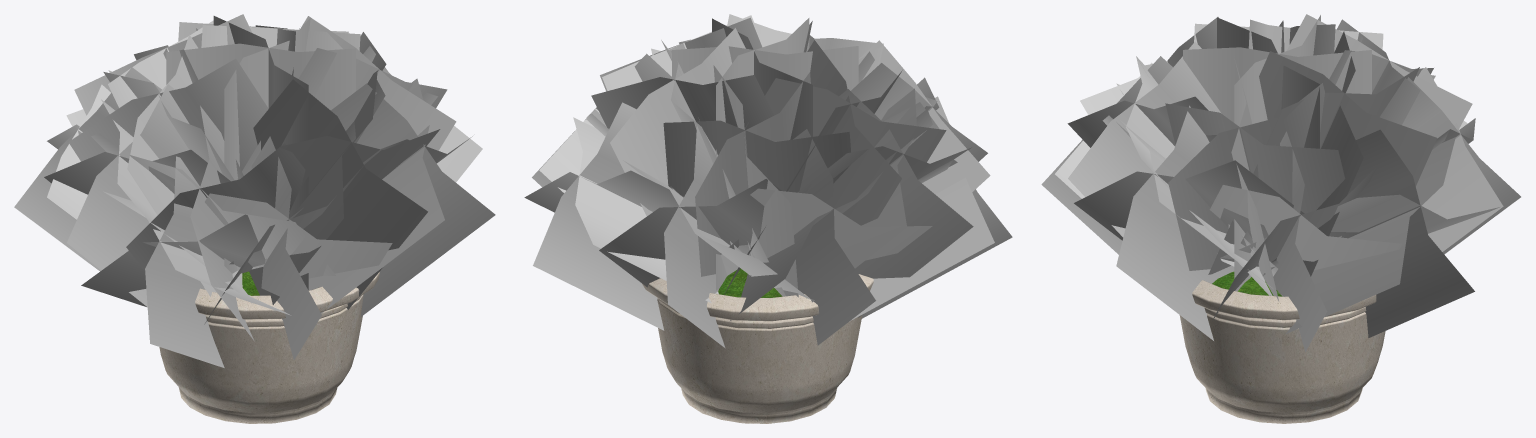
File: chaucay_6.fbx
3 renders of one model, left to right at view 1: azimuth 30°, elevation 25°; view 2: azimuth 150°, elevation 25°; view 3: azimuth 270°, elevation 25°, orthographic.
Parts seen in each view (by area): view 1: chaucay_F; view 2: chaucay_F; view 3: chaucay_F.
Boxes of the visible parts, bbox=[...] form: chaucay_F: bbox=[14, 14, 495, 423]; chaucay_F: bbox=[524, 14, 1012, 423]; chaucay_F: bbox=[1041, 14, 1520, 423].
Size of the model in its own units: 73.73 by 60.2 by 73.77.
